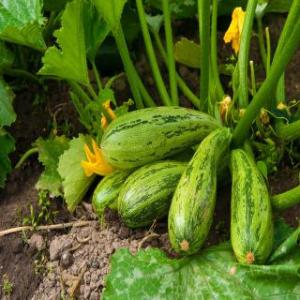zucchini: (83, 102, 215, 164), (166, 123, 228, 249), (116, 160, 204, 228), (225, 141, 272, 265)
